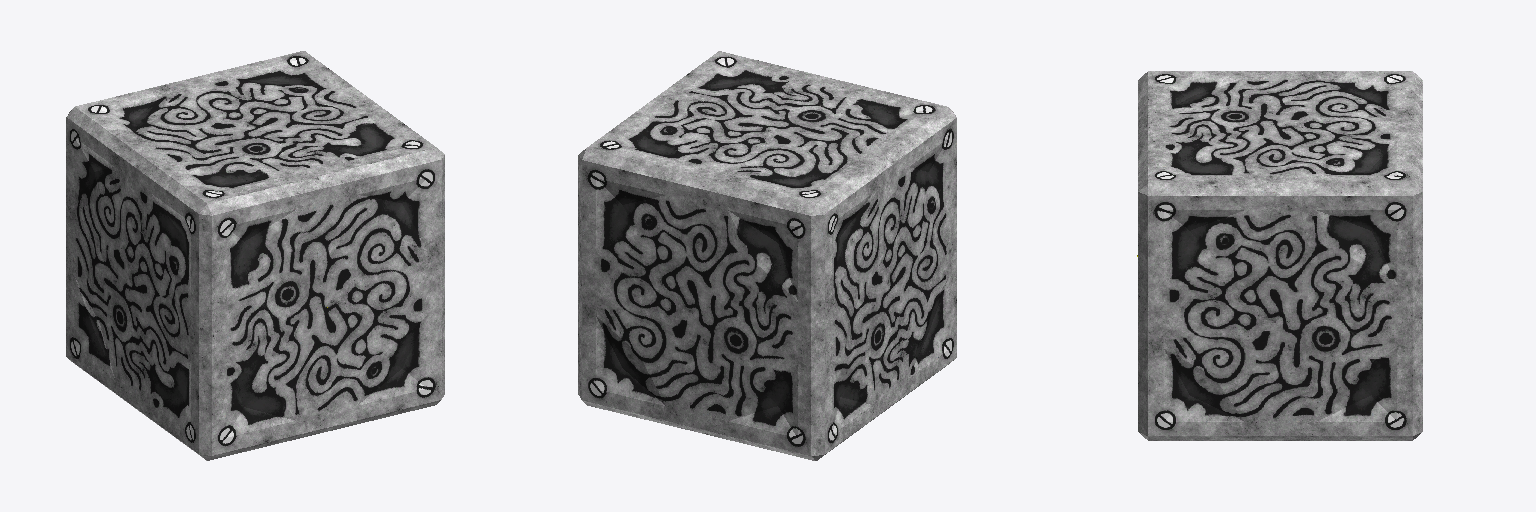
3 renders of one model, left to right at view 1: azimuth 30°, elevation 25°; view 2: azimuth 150°, elevation 25°; view 3: azimuth 270°, elevation 25°, orthographic.
Parts seen in each view (by area): view 1: Root__Mt_Metal_BoxIronB4x4x4_A; view 2: Root__Mt_Metal_BoxIronB4x4x4_A; view 3: Root__Mt_Metal_BoxIronB4x4x4_A.
Boxes of the visible parts, <box> form: Root__Mt_Metal_BoxIronB4x4x4_A: <box>66,51,444,460</box>; Root__Mt_Metal_BoxIronB4x4x4_A: <box>578,51,956,460</box>; Root__Mt_Metal_BoxIronB4x4x4_A: <box>1138,71,1422,440</box>.
Bounding box in the file's own units: 4 × 4 × 4.01.
2 materials, 1 textured.